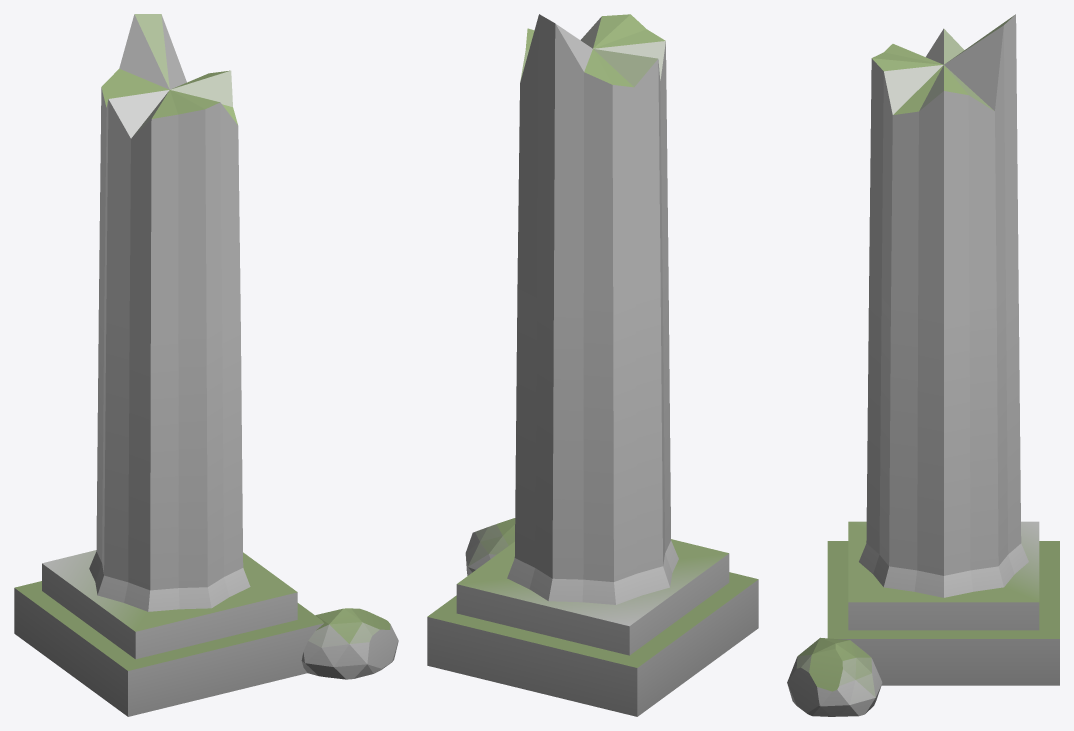
Rendered from pillar.glb.
3 renders of one model, left to right at view 1: azimuth 30°, elevation 25°; view 2: azimuth 150°, elevation 25°; view 3: azimuth 270°, elevation 25°, orthographic. The views are drawn at different scales.
Visible parts, largest first — view 1: pillar; view 2: pillar; view 3: pillar.
Boxes of the visible parts, left/top/right/bottom form: pillar: left=14, top=14, right=398, bottom=716; pillar: left=427, top=14, right=758, bottom=716; pillar: left=787, top=14, right=1059, bottom=716.
Bounding box in the file's own units: 1.22 × 2.66 × 1.06.
